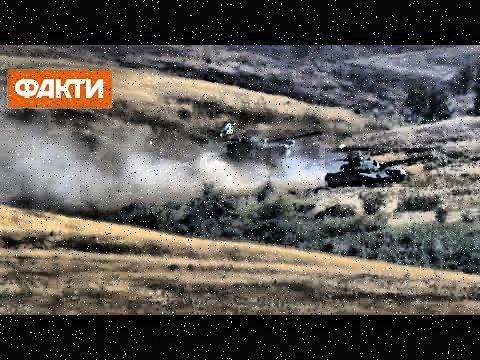military-vehicle: (208, 131, 321, 171), (325, 148, 432, 187)
